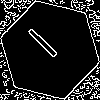I: (25, 25, 67, 67)
